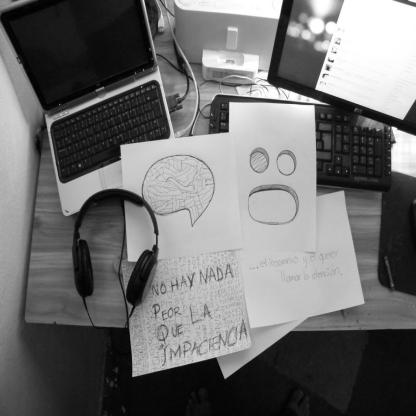board: (0, 0, 174, 217)
